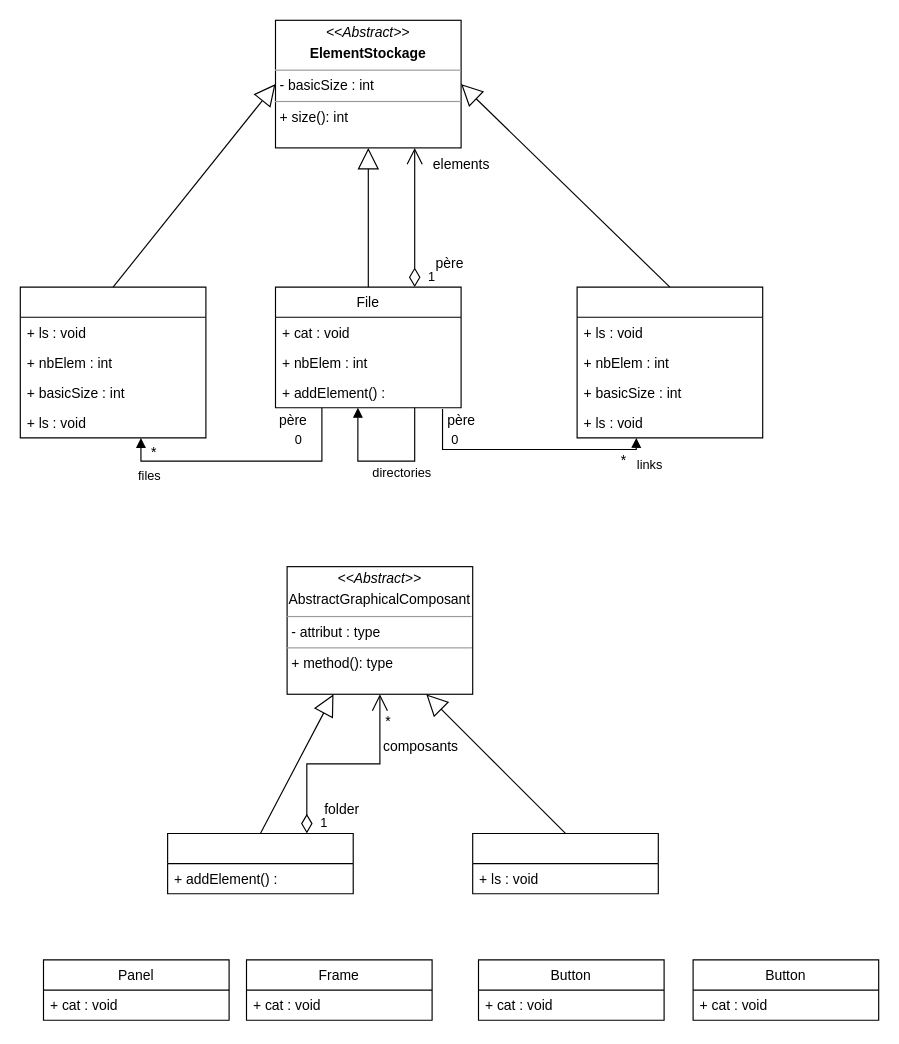
This 899x1044 diagram has some shape labels left out. Each missing label, with the box of its shape:
Abstract container: (166, 832, 353, 894)
Directory: (19, 286, 206, 438)
ElementaryComposant: (472, 832, 658, 894)
Link: (576, 286, 763, 438)
